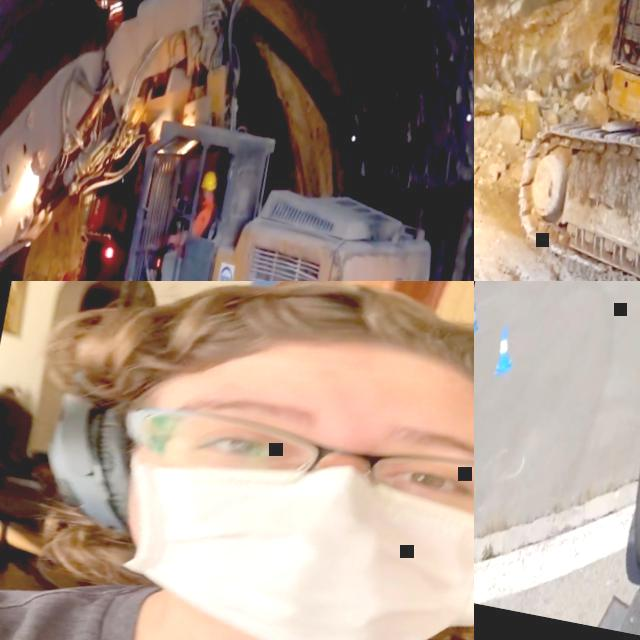helmet: (200, 171, 218, 191)
machinery: (0, 0, 474, 281), (474, 0, 640, 281)
mask: (104, 441, 474, 640)
no_helmet: (82, 281, 474, 460)
no_mask: (202, 192, 206, 200)
no_vest: (0, 565, 474, 640)
person: (0, 281, 474, 640), (154, 162, 223, 281)
safety_cone: (490, 324, 520, 380), (474, 302, 483, 336)
vehicle: (576, 296, 640, 640)
vest: (190, 194, 218, 239)
